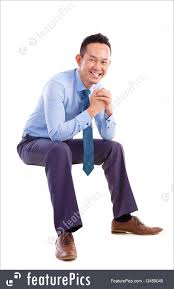sitting: (14, 31, 167, 261)
